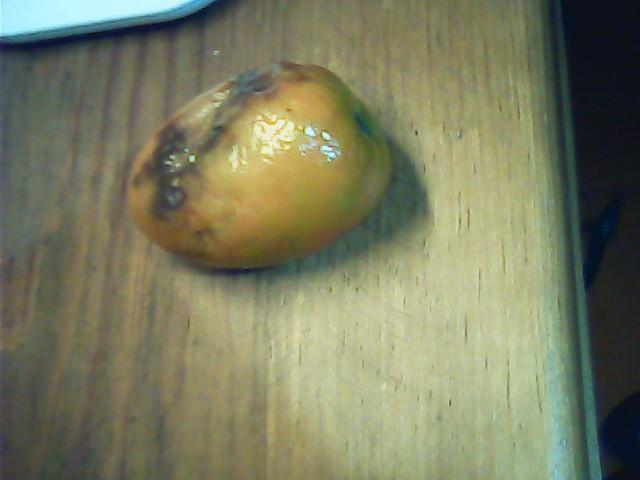defectuoso: (127, 58, 391, 275)
